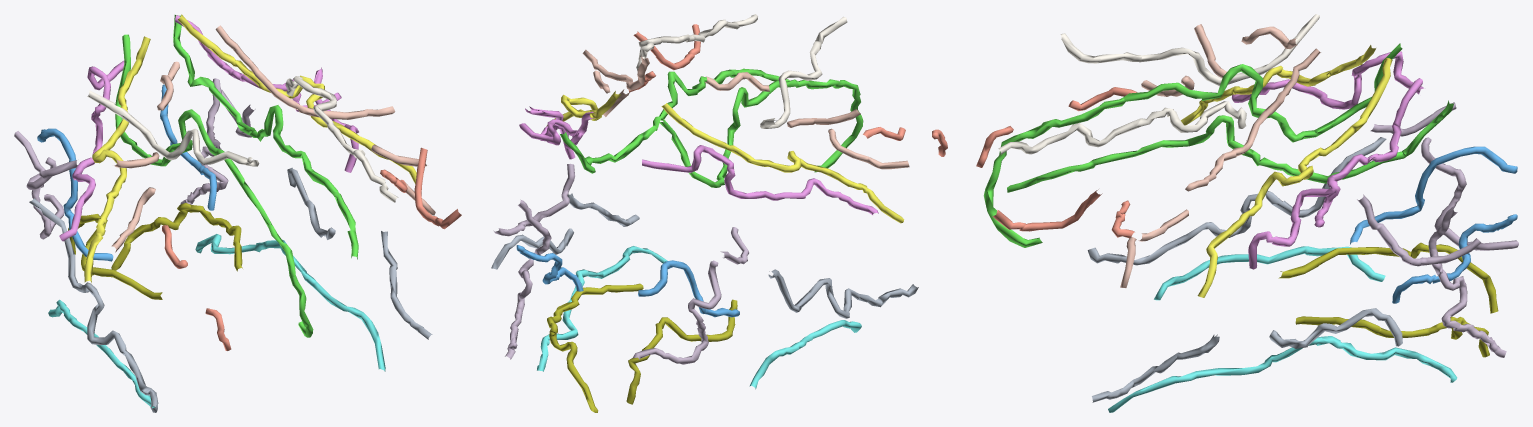
Rendered from sulci.lod2.glb.
3 renders of one model, left to right at view 1: azimuth 30°, elevation 25°; view 2: azimuth 150°, elevation 25°; view 3: azimuth 270°, elevation 25°, orthographic. The views are drawn at different scales.
Parts seen in each view (by area): view 1: cingulate-sulcus-r, cingulate-sulcus-l, central-sulcus-r, superior-temporal-sulcus-r, precentral-sulcus-l, postcentral-sulcus-r, central-sulcus-l, collateral-sulcus-l, superior-frontal-sulcus-r, calcarine-sulcus-l, superior-temporal-sulcus-l, superior-frontal-sulcus-l (+10 smaller); view 2: cingulate-sulcus-r, intraparietal-sulcus-l, postcentral-sulcus-r, cingulate-sulcus-l, central-sulcus-r, intraparietal-sulcus-r, precentral-sulcus-r, superior-temporal-sulcus-r, calcarine-sulcus-l, postcentral-sulcus-l, collateral-sulcus-l, calcarine-sulcus-r (+10 smaller); view 3: cingulate-sulcus-r, cingulate-sulcus-l, intraparietal-sulcus-l, postcentral-sulcus-l, central-sulcus-l, collateral-sulcus-l, superior-temporal-sulcus-l, superior-frontal-sulcus-l, superior-temporal-sulcus-r, precentral-sulcus-l, superior-frontal-sulcus-r, intraparietal-sulcus-r (+10 smaller).
Part boxes in pixels (bbox=[...]): cingulate-sulcus-r: bbox=[115, 34, 313, 337]; cingulate-sulcus-l: bbox=[173, 15, 358, 259]; central-sulcus-r: bbox=[84, 36, 150, 282]; superior-temporal-sulcus-r: bbox=[29, 198, 158, 412]; precentral-sulcus-l: bbox=[215, 25, 435, 215]; postcentral-sulcus-r: bbox=[59, 60, 124, 241]; central-sulcus-l: bbox=[178, 14, 416, 183]; collateral-sulcus-l: bbox=[195, 234, 385, 371]; superior-frontal-sulcus-r: bbox=[87, 90, 259, 166]; calcarine-sulcus-l: bbox=[111, 203, 242, 271]; superior-temporal-sulcus-l: bbox=[287, 167, 432, 339]; superior-frontal-sulcus-l: bbox=[285, 76, 398, 202]; cingulate-sulcus-r: bbox=[659, 79, 863, 187]; intraparietal-sulcus-l: bbox=[493, 163, 574, 359]; postcentral-sulcus-r: bbox=[642, 145, 878, 215]; cingulate-sulcus-l: bbox=[560, 68, 789, 173]; central-sulcus-r: bbox=[661, 103, 904, 223]; intraparietal-sulcus-r: bbox=[632, 227, 748, 364]; precentral-sulcus-r: bbox=[705, 72, 909, 169]; superior-temporal-sulcus-r: bbox=[768, 269, 918, 318]; calcarine-sulcus-l: bbox=[547, 283, 643, 412]; postcentral-sulcus-l: bbox=[519, 106, 595, 159]; collateral-sulcus-l: bbox=[537, 246, 667, 371]; calcarine-sulcus-r: bbox=[626, 299, 737, 404]; cingulate-sulcus-r: bbox=[983, 43, 1402, 247]; cingulate-sulcus-l: bbox=[1007, 100, 1454, 192]; intraparietal-sulcus-l: bbox=[1357, 194, 1506, 357]; postcentral-sulcus-l: bbox=[1248, 78, 1422, 269]; central-sulcus-l: bbox=[1197, 57, 1392, 297]; collateral-sulcus-l: bbox=[1108, 336, 1457, 412]; superior-temporal-sulcus-l: bbox=[1092, 308, 1402, 402]; superior-frontal-sulcus-l: bbox=[998, 101, 1246, 154]; superior-temporal-sulcus-r: bbox=[1087, 137, 1386, 265]; precentral-sulcus-l: bbox=[1120, 48, 1320, 288]; superior-frontal-sulcus-r: bbox=[1060, 14, 1319, 86]; intraparietal-sulcus-r: bbox=[1370, 102, 1518, 250].
Size of the model in its own units: 0.1192 by 0.0977 by 0.1471.
